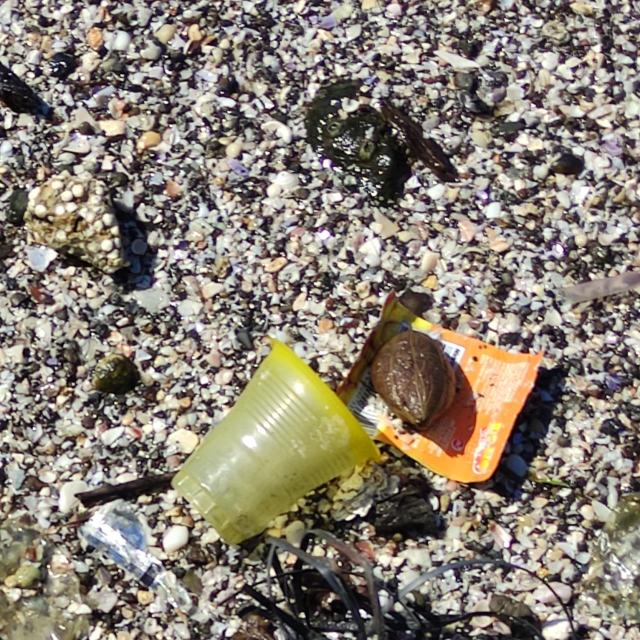plastic_waste: (171, 342, 385, 553), (345, 292, 549, 490)
